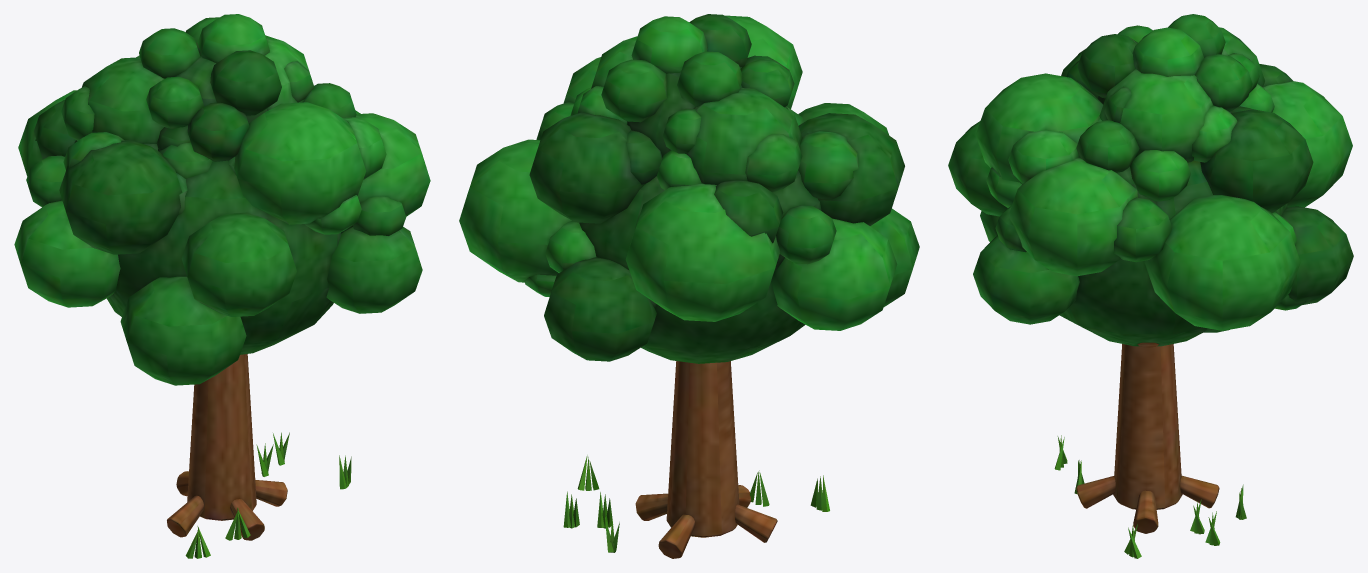
File: orange_tree.glb
The picture shows the model from 3 angles, left to right: view 1: azimuth 30°, elevation 25°; view 2: azimuth 150°, elevation 25°; view 3: azimuth 270°, elevation 25°; orthographic projection. The views are drawn at different scales.
Visible parts, largest first — view 1: crown, orange_tree; view 2: crown, orange_tree; view 3: crown, orange_tree.
Boxes of the visible parts, box(x1,y1,x2,y2) form: crown: box(14, 14, 430, 385); orange_tree: box(167, 354, 351, 558); crown: box(459, 14, 919, 363); orange_tree: box(563, 361, 829, 558); crown: box(948, 14, 1353, 346); orange_tree: box(1054, 342, 1246, 558).
Bounding box in the file's own units: 1.11 × 1.38 × 1.04.
1 material, 1 textured.
